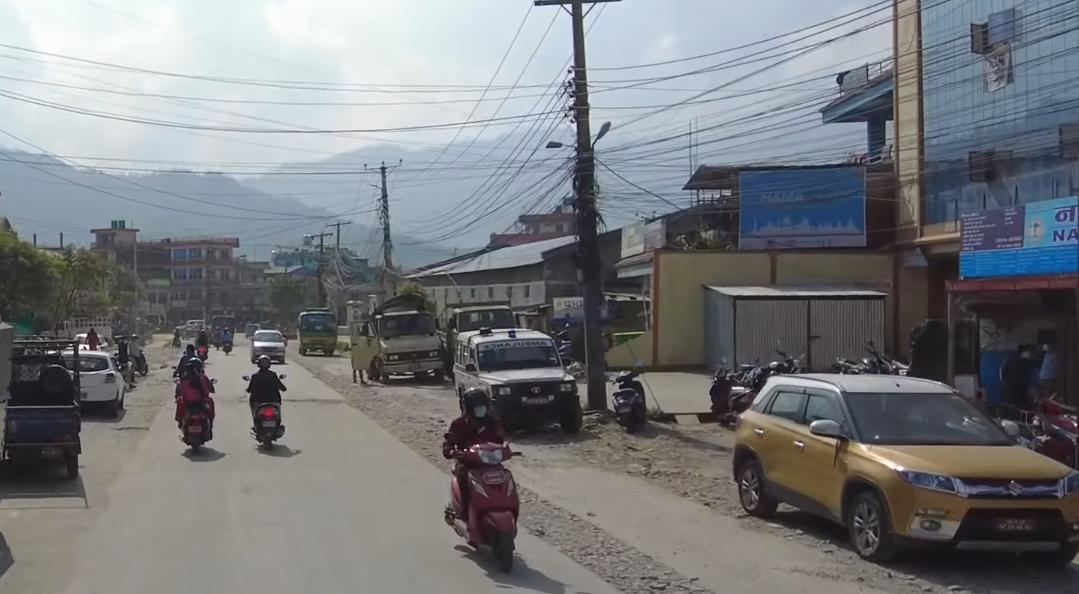ambulance: (452, 324, 599, 447)
bus: (297, 305, 338, 360)
car: (727, 366, 1079, 569), (62, 345, 128, 421)
mini_truck: (354, 296, 445, 384)
scooter: (443, 433, 532, 575)
